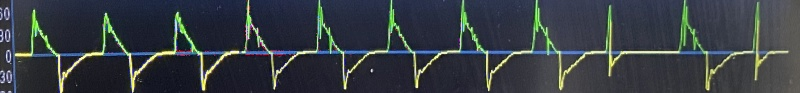hydrop_flow: (3, 0, 773, 93)
